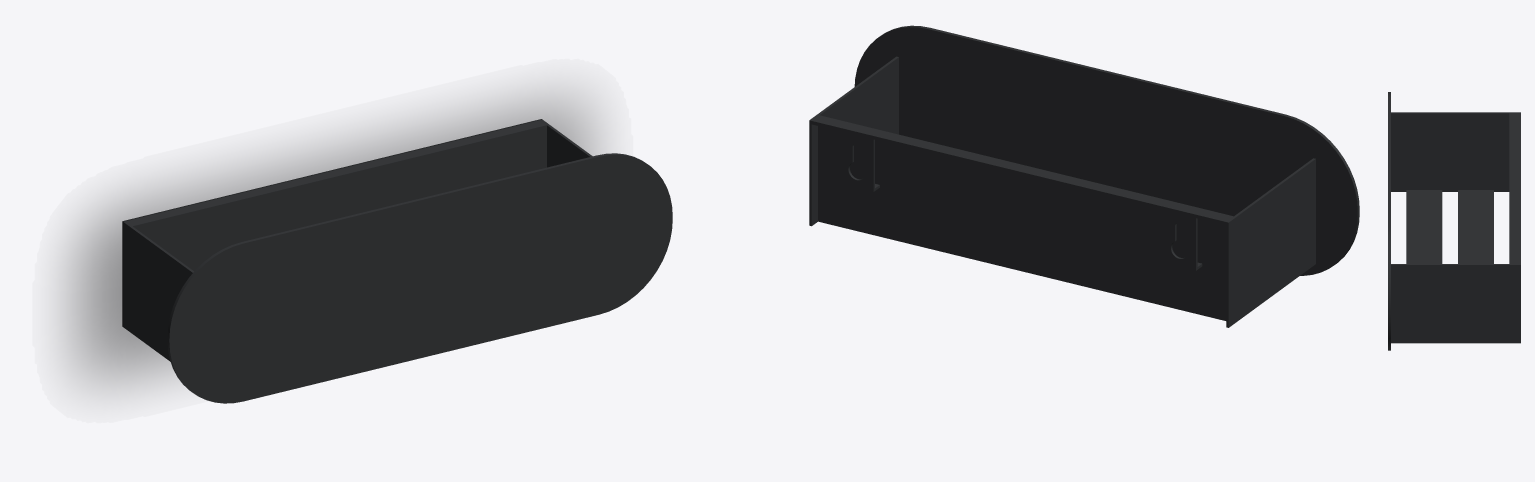
The model's file is round-mono.3066dd2885.ar.glb.
3 renders of one model, left to right at view 1: azimuth 30°, elevation 25°; view 2: azimuth 150°, elevation 25°; view 3: azimuth 270°, elevation 25°, orthographic. The views are drawn at different scales.
Parts seen in each view (by area): view 1: NAUO1, object 2; view 2: NAUO1; view 3: NAUO1.
Boxes of the visible parts, x1,y1,x2,y2 form: NAUO1: (122, 119, 672, 403); object 2: (65, 96, 599, 385); NAUO1: (809, 25, 1359, 327); NAUO1: (1388, 92, 1520, 350).
Size of the model in its own units: 0.38 by 0.17 by 0.092.
Materials: 2 (1 with a texture image).
